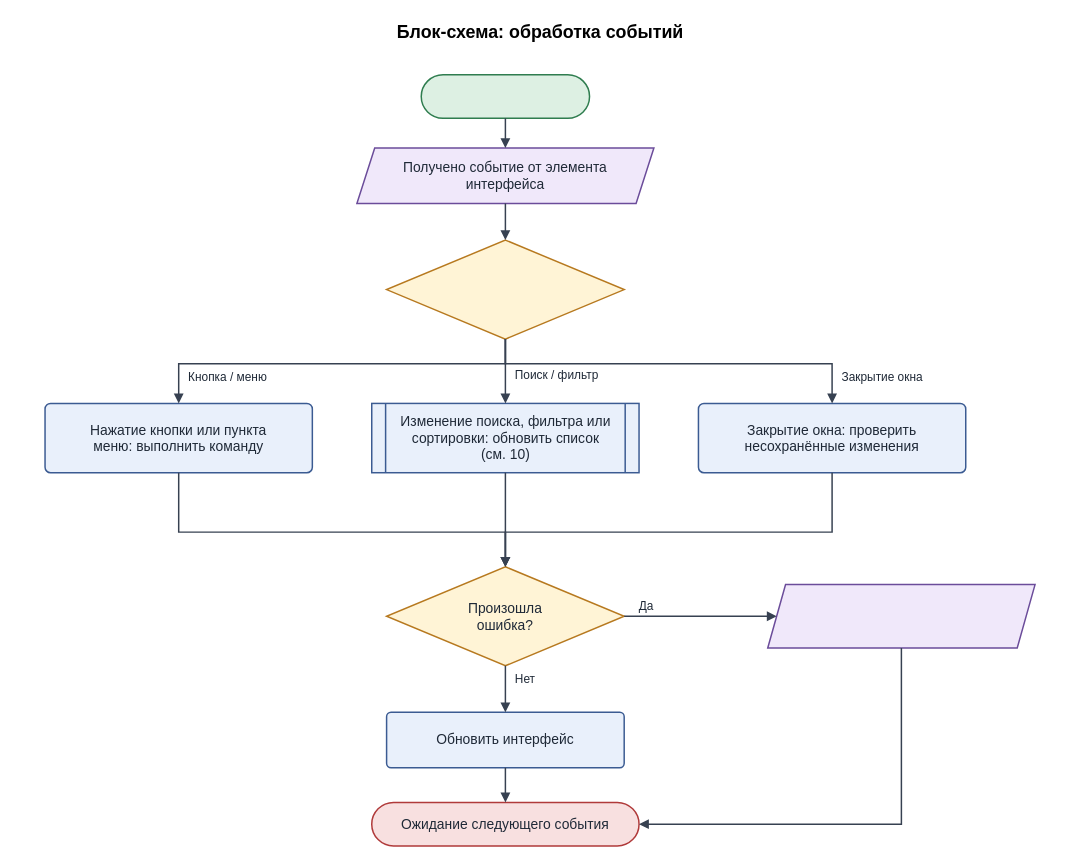
The diagram is 1079 pixels wide and 863 high, and some of its shapes have lost their labels. Here are the shapes that lost their labels. From the top down, the centre of each, then its label:
At point 505,96: "Начало".
At point 504,289: "Тип события?".
At point 901,615: "Сообщение об ошибке с причиной (см. 12)".
